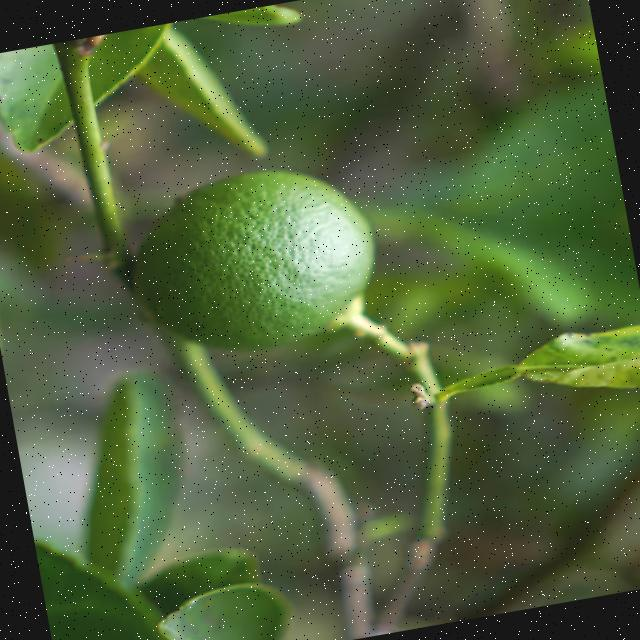Unripe: (116, 152, 391, 368)
